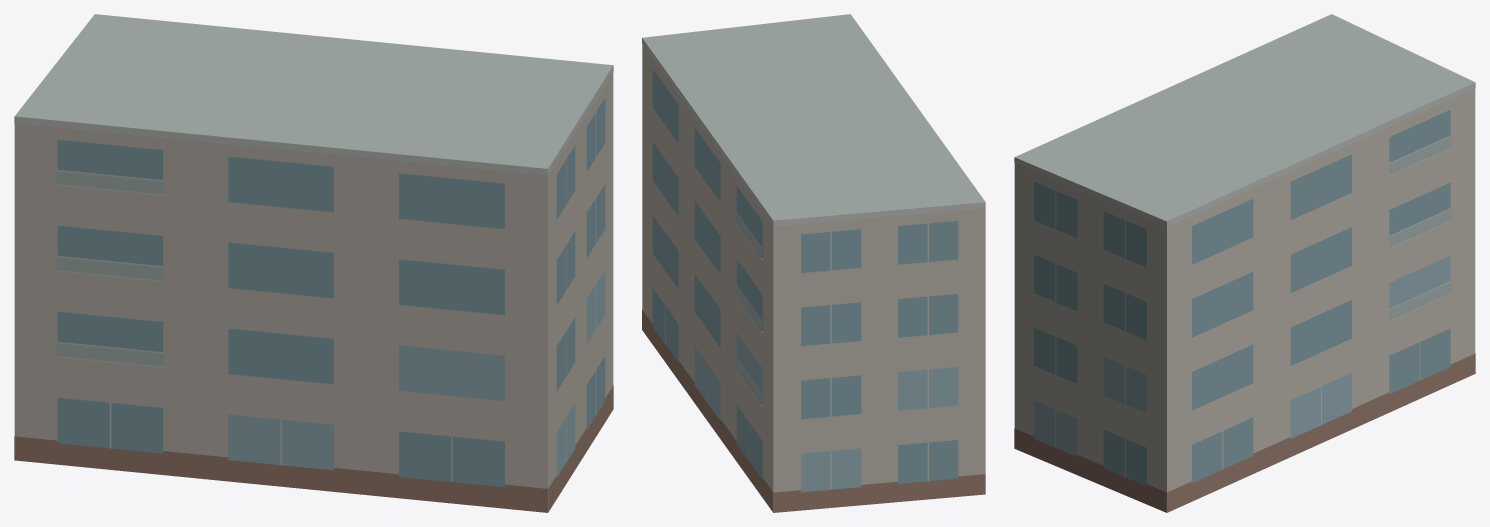
The model's file is survey-upis-32829634.glb.
3 renders of one model, left to right at view 1: azimuth 30°, elevation 25°; view 2: azimuth 150°, elevation 25°; view 3: azimuth 270°, elevation 25°, orthographic. The views are drawn at different scales.
Visible parts, largest first — view 1: survey-upis-32829634.tmp; view 2: survey-upis-32829634.tmp; view 3: survey-upis-32829634.tmp.
Part boxes in pixels (<box>): survey-upis-32829634.tmp: <box>14,14,613,512</box>; survey-upis-32829634.tmp: <box>642,14,985,512</box>; survey-upis-32829634.tmp: <box>1014,14,1475,512</box>.
Bounding box in the file's own units: 18.63 × 12.2 × 17.5.
